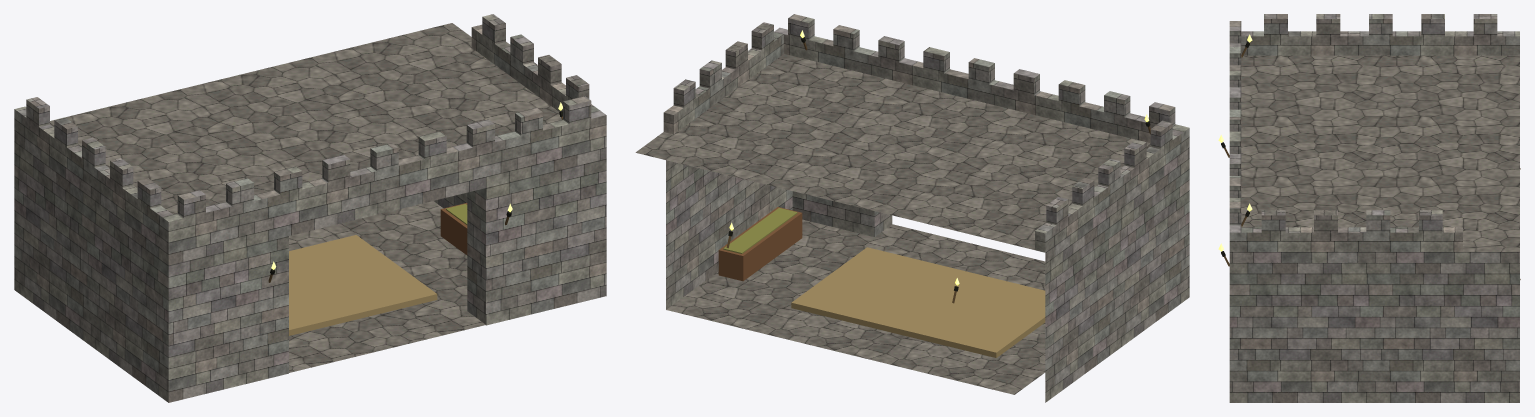
The model's file is draci_hrad_interier.glb.
3 renders of one model, left to right at view 1: azimuth 30°, elevation 25°; view 2: azimuth 150°, elevation 25°; view 3: azimuth 270°, elevation 25°, orthographic. The views are drawn at different scales.
Parts seen in each view (by area): view 1: hrad, podlaha_1, podlaha; view 2: hrad, podlaha_1, podlaha; view 3: hrad, podlaha_1.
Boxes of the visible parts, left/top/right/bottom form: hrad: left=14, top=14, right=606, bottom=402; podlaha_1: left=50, top=23, right=561, bottom=214; podlaha: left=289, top=201, right=485, bottom=372; hrad: left=663, top=14, right=1189, bottom=402; podlaha_1: left=635, top=54, right=1150, bottom=249; podlaha: left=666, top=219, right=1045, bottom=394; hrad: left=1221, top=14, right=1520, bottom=402; podlaha_1: left=1241, top=55, right=1519, bottom=251.
Bounding box in the file's own units: 20 × 8.7 × 12.69.
Materials: 2 (1 with a texture image).
